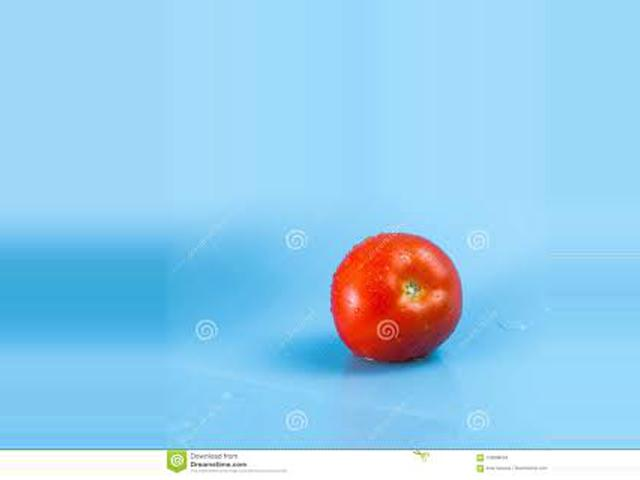tomato: (330, 233, 464, 360)
